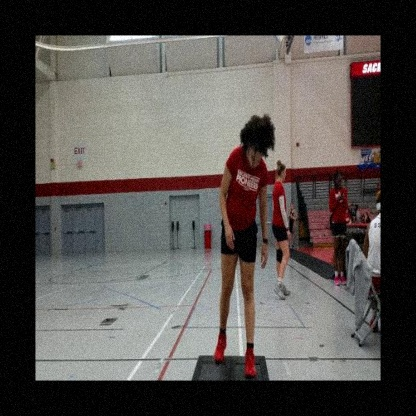lateral_flexion_left: (212, 110, 269, 381)
stance_width_normal: (213, 142, 270, 381)
